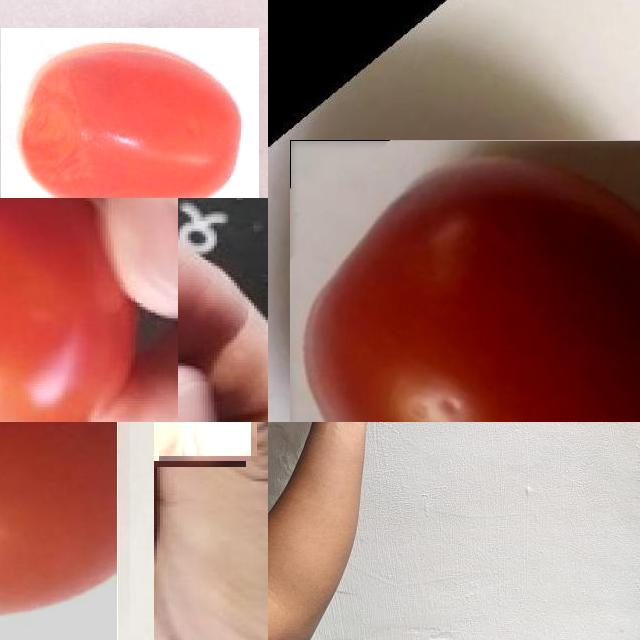Fresh Tomato: (290, 140, 640, 422), (0, 198, 178, 422), (0, 422, 117, 640)
Rotten Tomato: (1, 28, 259, 198)
